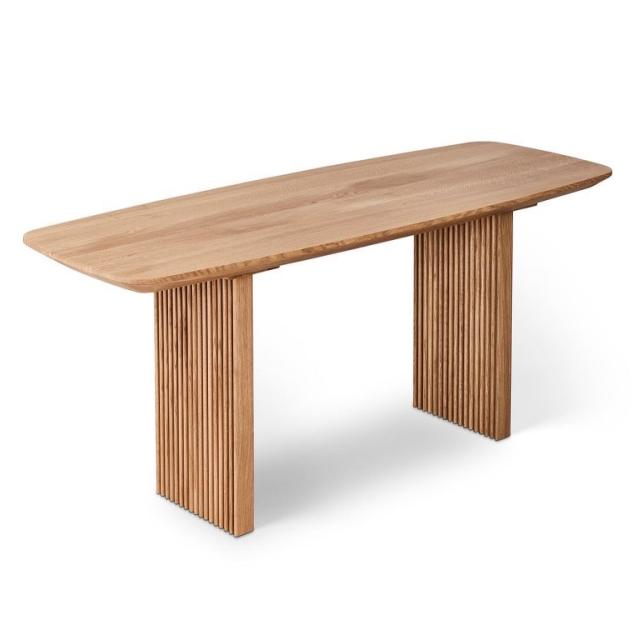table: (21, 101, 622, 552)
